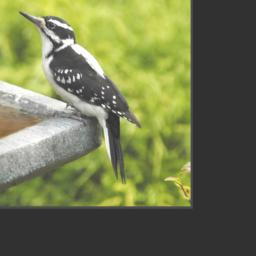Woodpecker: (17, 6, 142, 186)
